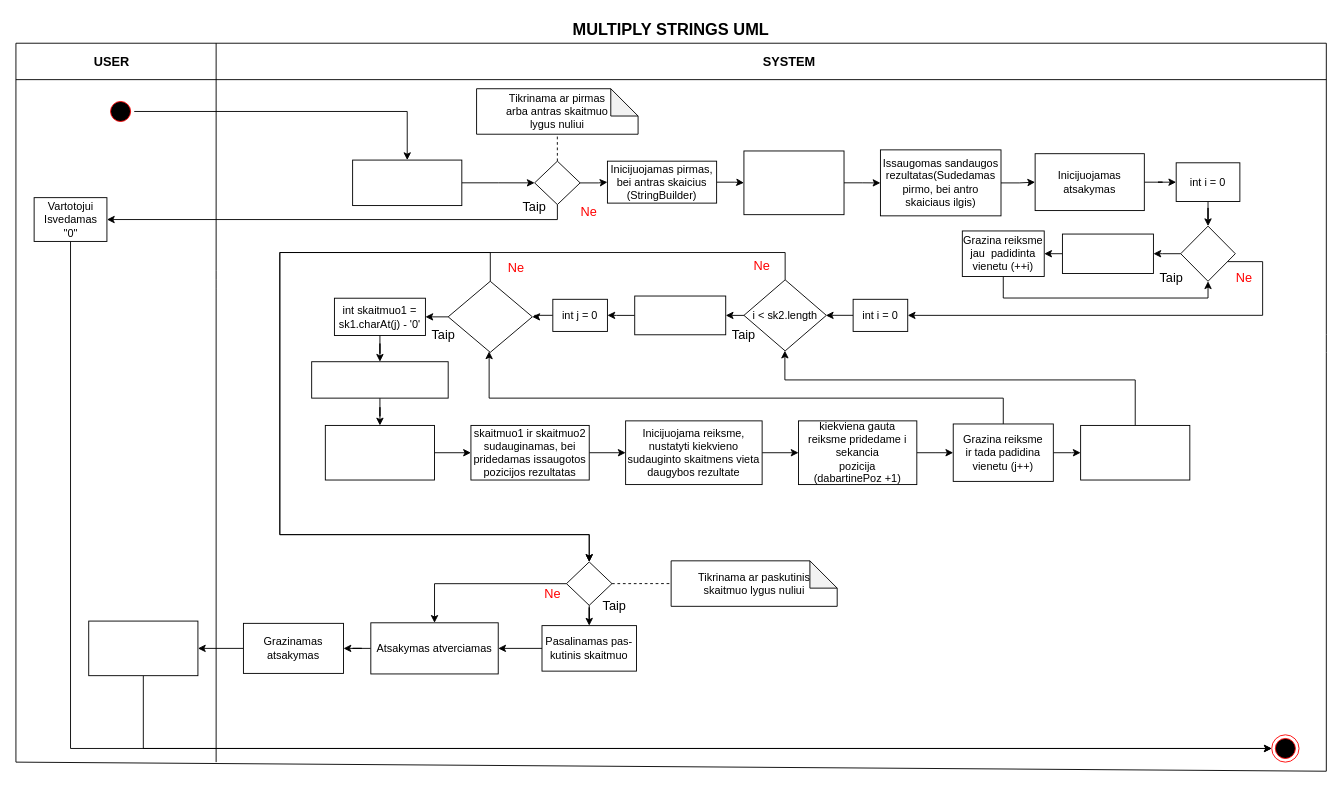
This 1343x788 diagram has some shape labels left out. Here are the shapes that lost their labels. From the top down, the centre of each, then its label:
(407,182): Suvedamas pirmas ir antras skaicius kaip "String"
(793,182): Apverciami skaitmenys, kad skaiciavimas vyktu nuo galo
(1107,253): ats.append(0);
(1207,253): i < rez
(489,316): j < sk1.length
(680,315): int skaitmuo2 = sk2.charAt(i) - '0'
(379,379): Issaugoma nauja dabartine pozicija j, i ciklo ( j + i )
(379,452): Dabartines pozicijos rezultatas issaugomas (ats.charAt(..)..)
(1135,452): Grazina reiksme ir tada padidina vienetu (i++)
(143,648): Vartotojui isvedamas sandaugos rezultatas
